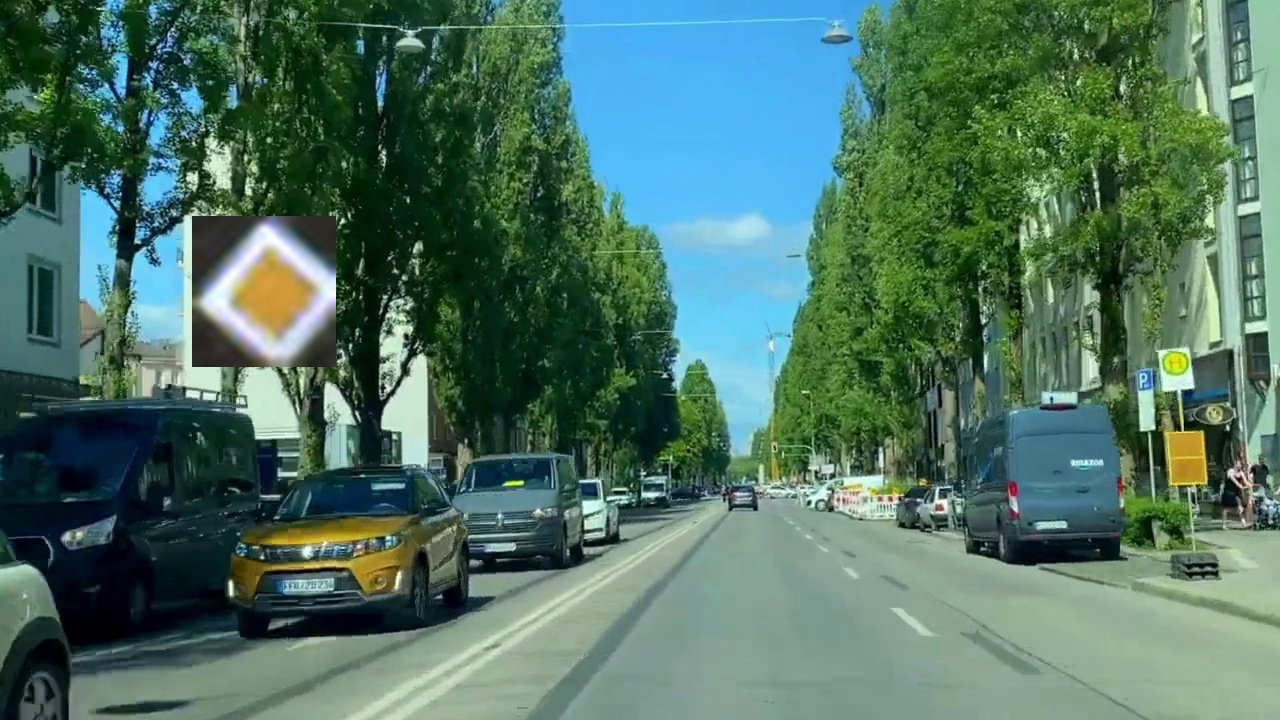Priority road: (192, 216, 336, 367)
